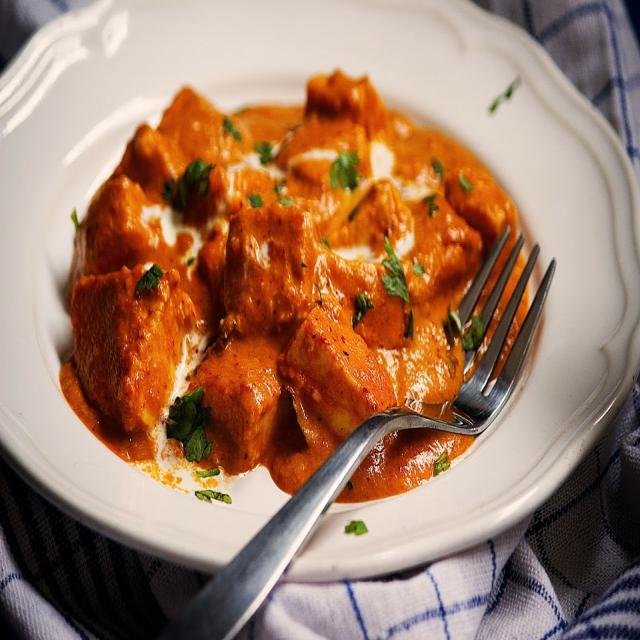ShahiPaneer: (58, 64, 536, 498)
